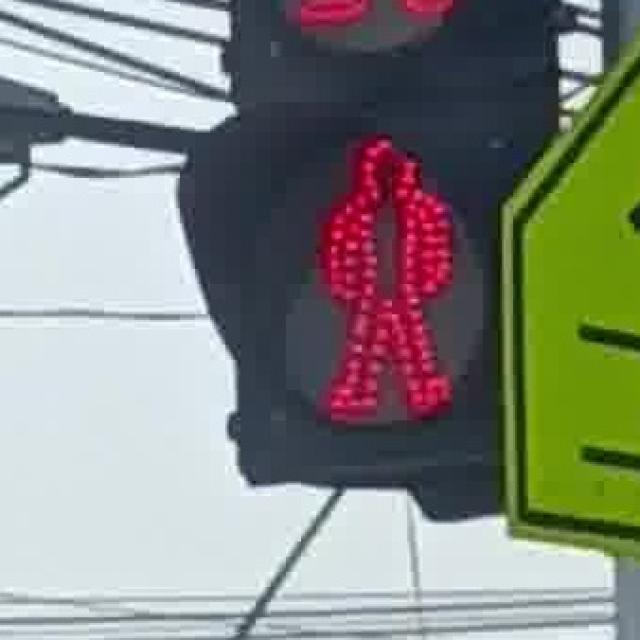red-crossing: (296, 123, 478, 445)
